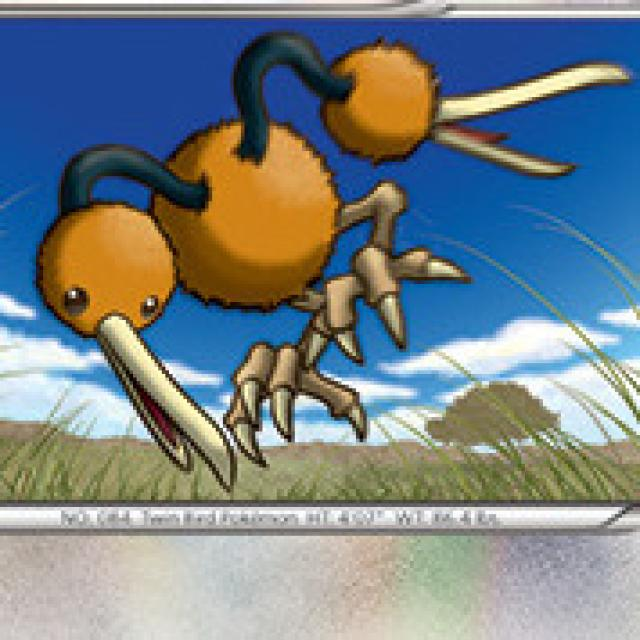Doduo: (39, 26, 477, 462)
